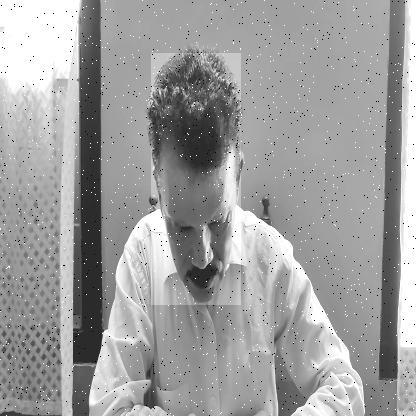Normal: (151, 53, 241, 305)
